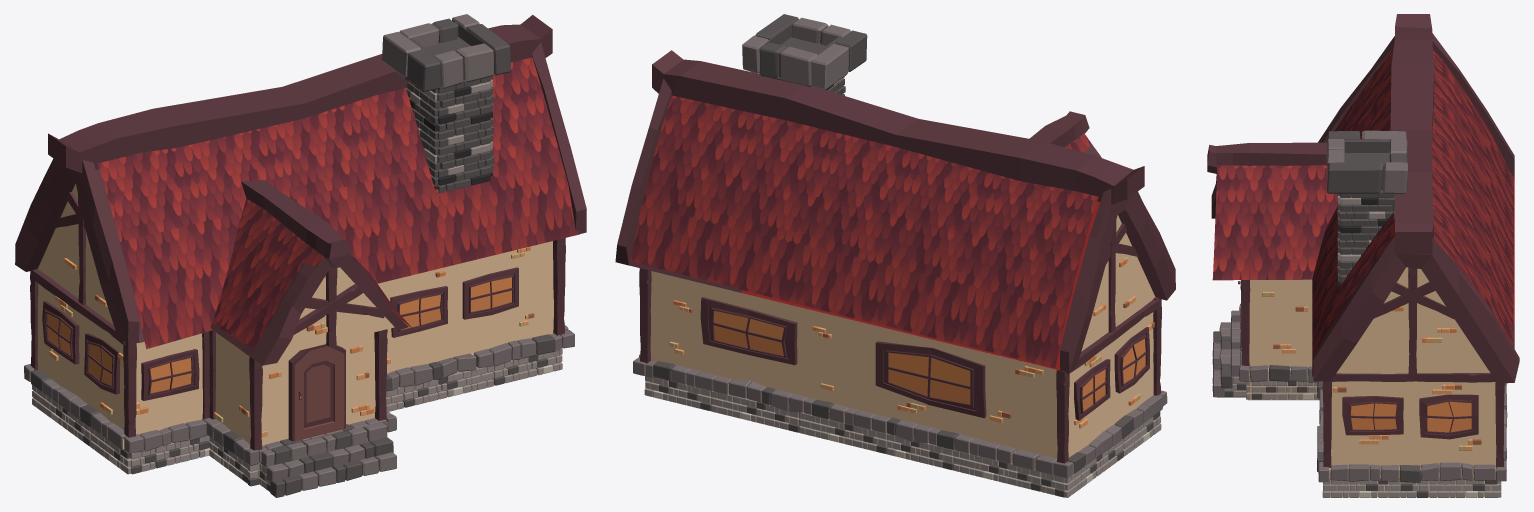
File: casa-pedra5.fbx
3 renders of one model, left to right at view 1: azimuth 30°, elevation 25°; view 2: azimuth 150°, elevation 25°; view 3: azimuth 270°, elevation 25°, orthographic. The views are drawn at different scales.
Visible parts, largest first — view 1: CasaPedra5_LOD0, PortaCasaPedra5; view 2: CasaPedra5_LOD0; view 3: CasaPedra5_LOD0.
Boxes of the visible parts, x1,y1,x2,y2 form: CasaPedra5_LOD0: (15, 14, 586, 497); PortaCasaPedra5: (294, 346, 344, 441); CasaPedra5_LOD0: (615, 14, 1175, 497); CasaPedra5_LOD0: (1207, 14, 1519, 497).
Size of what is drawn, in the model's own units: 10.99 by 7.26 by 6.66.
